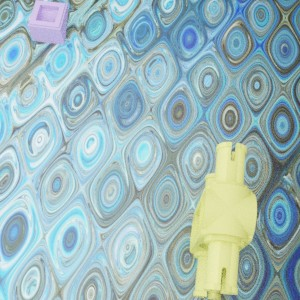lego: (189, 141, 256, 300), (27, 0, 68, 44)
